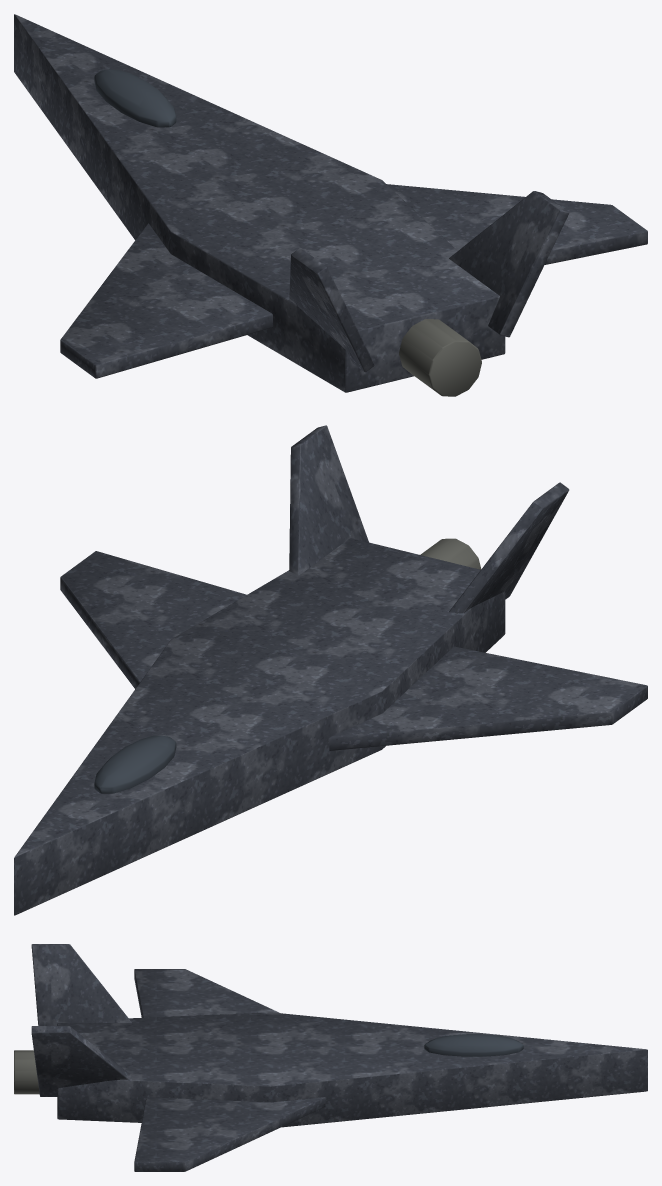
Rendered from air_e4_us_stealth_LOD0.glb.
3 renders of one model, top to bottom at view 1: azimuth 30°, elevation 25°; view 2: azimuth 150°, elevation 25°; view 3: azimuth 270°, elevation 25°, orthographic. The views are drawn at different scales.
Parts seen in each view (by area): view 1: air_e4_us_stealth_LOD0_body, air_e4_us_stealth_LOD0_gun, air_e4_us_stealth_LOD0_glass; view 2: air_e4_us_stealth_LOD0_body, air_e4_us_stealth_LOD0_glass, air_e4_us_stealth_LOD0_gun; view 3: air_e4_us_stealth_LOD0_body, air_e4_us_stealth_LOD0_glass, air_e4_us_stealth_LOD0_gun.
Part boxes in pixels (left/top/right/bottom): air_e4_us_stealth_LOD0_body: left=14, top=14, right=647, bottom=392; air_e4_us_stealth_LOD0_gun: left=399, top=319, right=481, bottom=396; air_e4_us_stealth_LOD0_glass: left=94, top=69, right=176, bottom=127; air_e4_us_stealth_LOD0_body: left=14, top=425, right=647, bottom=915; air_e4_us_stealth_LOD0_glass: left=94, top=735, right=176, bottom=793; air_e4_us_stealth_LOD0_gun: left=420, top=538, right=481, bottom=569; air_e4_us_stealth_LOD0_body: left=31, top=944, right=647, bottom=1171; air_e4_us_stealth_LOD0_glass: left=424, top=1034, right=523, bottom=1056; air_e4_us_stealth_LOD0_gun: left=14, top=1050, right=39, bottom=1094.
Bounding box in the file's own units: 10.7 × 2.76 × 14.81.
3 materials, 1 textured.
